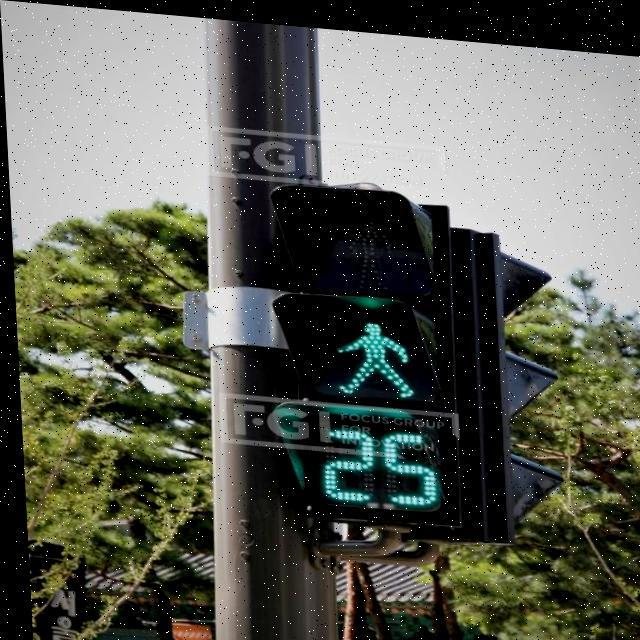green_light: (296, 306, 442, 510)
